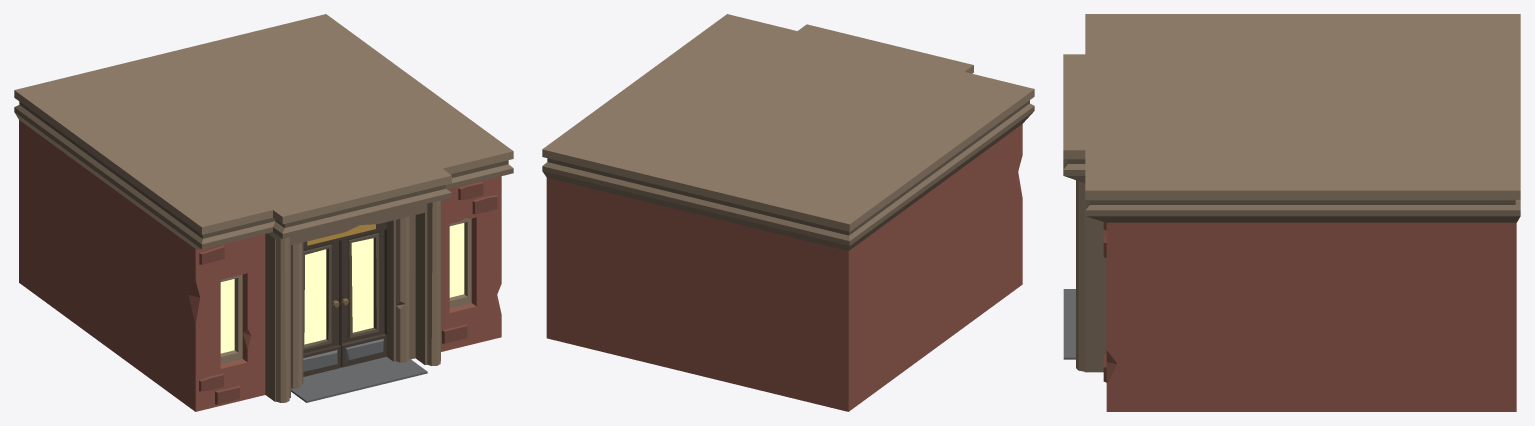
Rendered from SM_Bld_Apartment_Door_01.fbx.
The picture shows the model from 3 angles, left to right: view 1: azimuth 30°, elevation 25°; view 2: azimuth 150°, elevation 25°; view 3: azimuth 270°, elevation 25°; orthographic projection. The views are drawn at different scales.
Visible parts, largest first — view 1: SM_Bld_Apartment_Door_01; view 2: SM_Bld_Apartment_Door_01; view 3: SM_Bld_Apartment_Door_01.
Boxes of the visible parts, box(x1,y1,x2,y2) form: SM_Bld_Apartment_Door_01: box(14, 14, 513, 411); SM_Bld_Apartment_Door_01: box(542, 14, 1034, 411); SM_Bld_Apartment_Door_01: box(1063, 14, 1520, 411).
Bounding box in the file's own units: 510 × 300 × 558.
